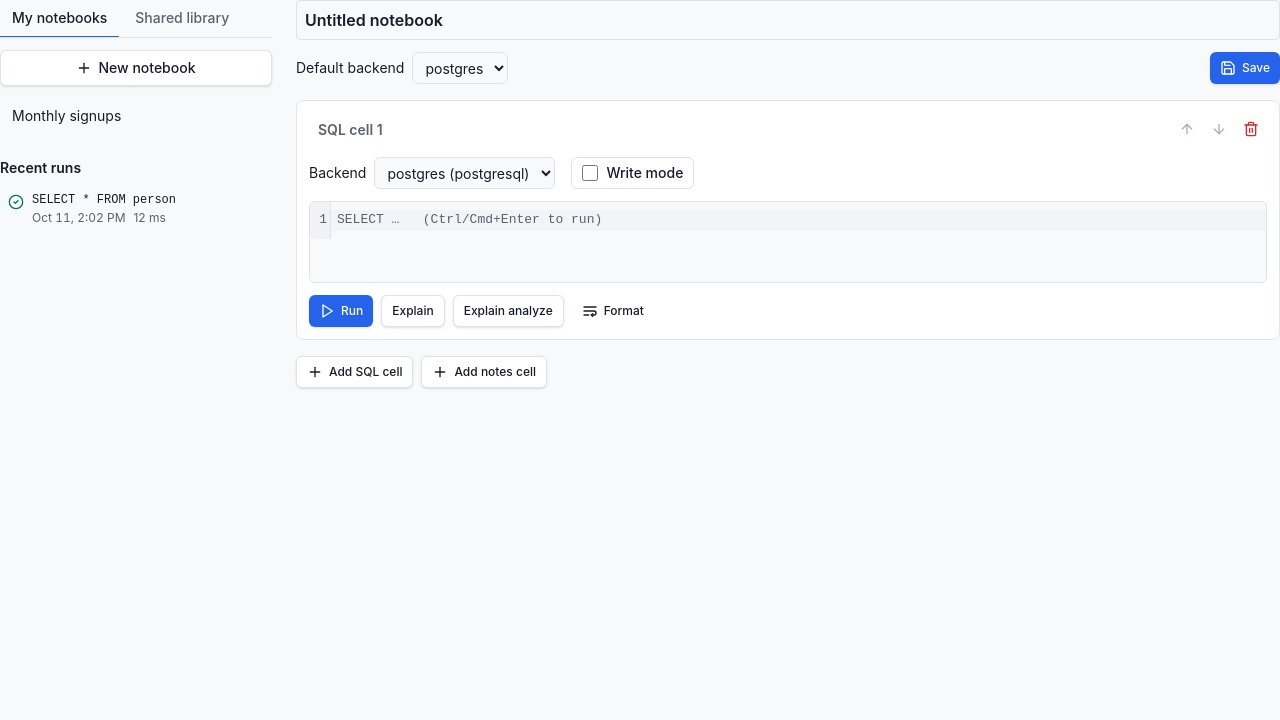
Test: SqlWorkbenchWidget › previews a write and commits only after confirmation
The width and height of the screenshot is (1280, 720).
Type "UPDATE person SET active = false" into the field named "SQL for cell 1" at (798,220), box [331,210,1266,231]
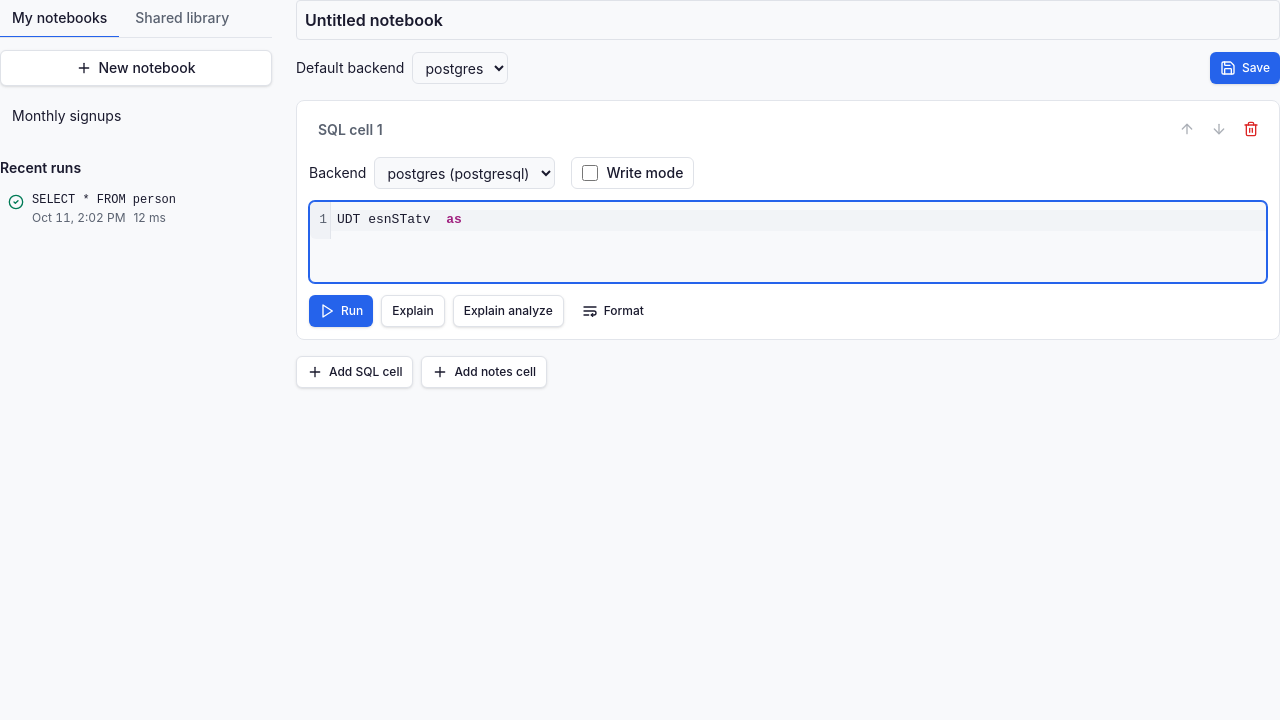
Click the checkbox labelled "Write mode" at (590,173), box [582,165,598,181]
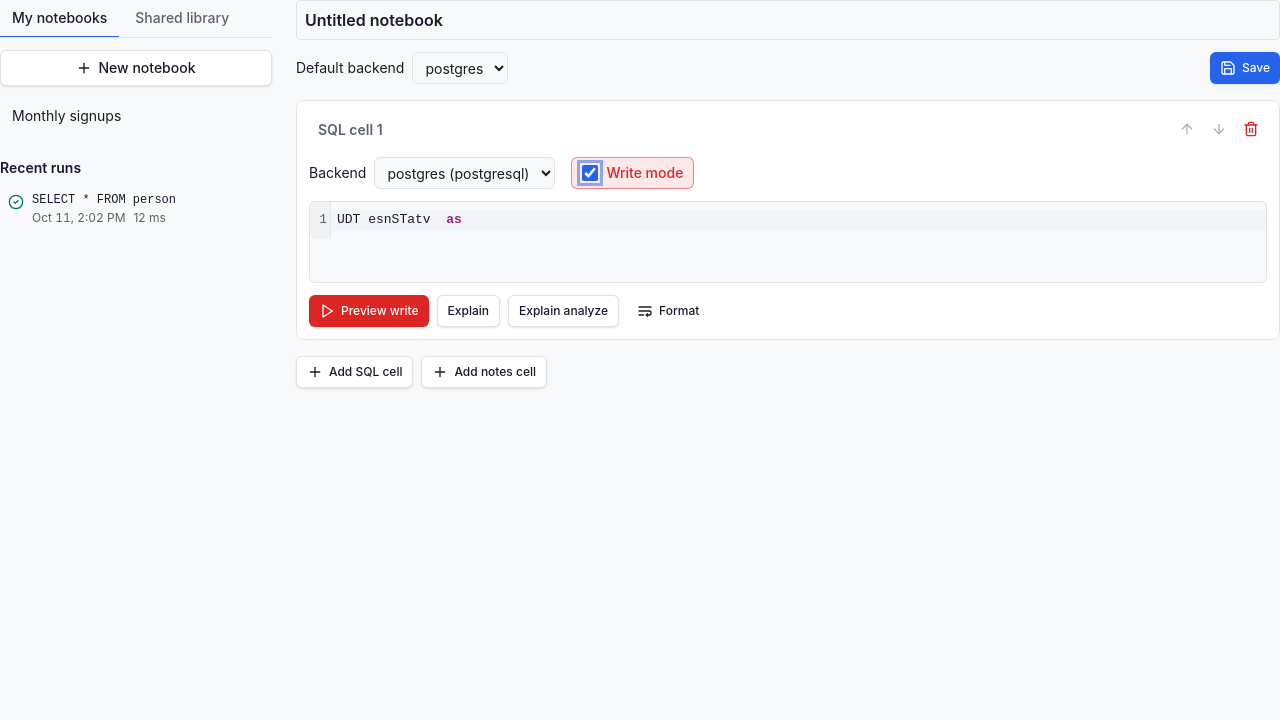
Click the button "Preview write" at (369,311), box [309,295,429,327]
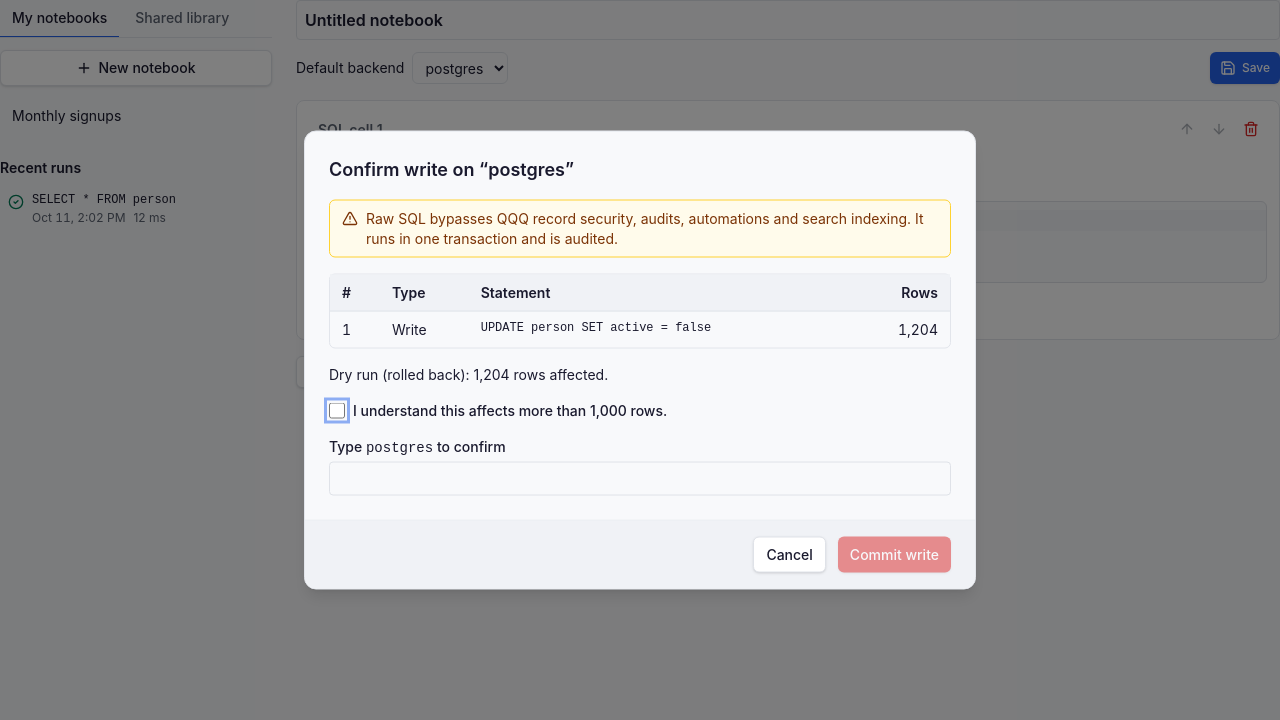
Expected: the text "Dry run (rolled back): 1,204 rows affected." is shown, [329,366,608,382]
Expected: the button "Commit write" is disabled, [838,536,951,572]
Type "postgres" into the field labelled "Type postgres to confirm" at (640,478), box [329,462,951,496]
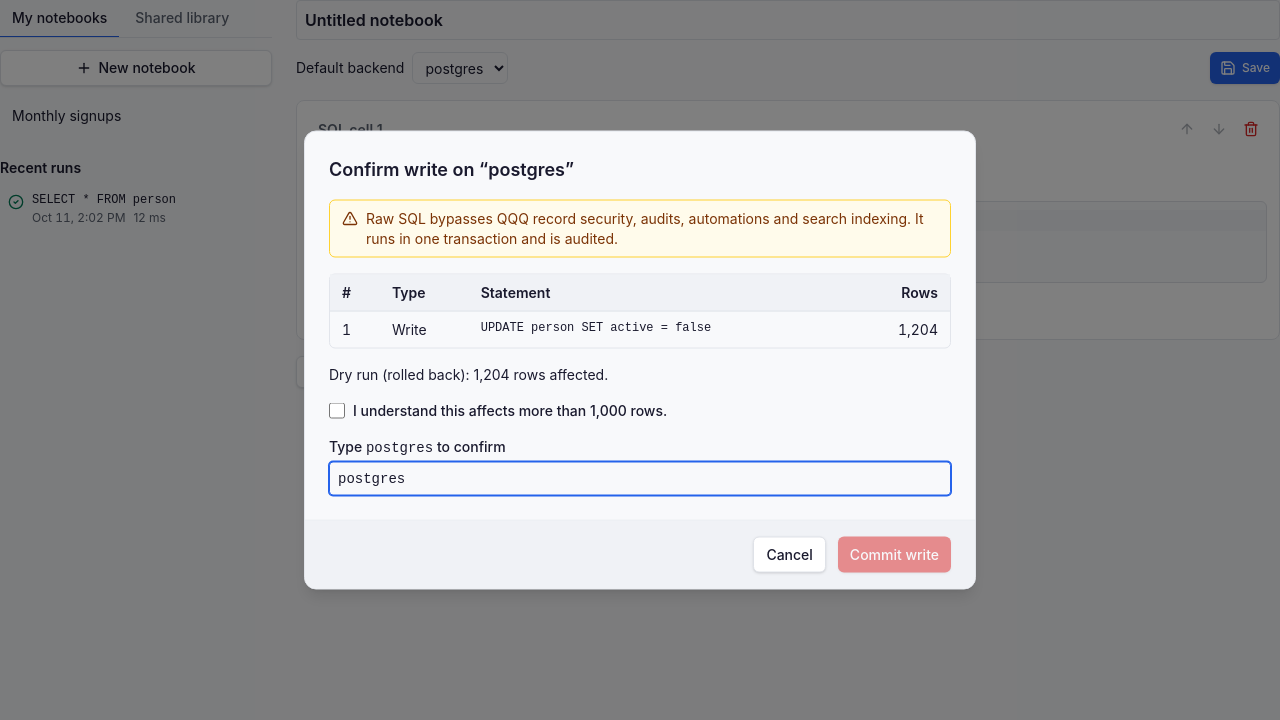
Expected: the button "Commit write" is disabled, [838,536,951,572]
Click the checkbox labelled "I understand this affects more than 1,000 rows." at (337,410), box [329,402,345,418]
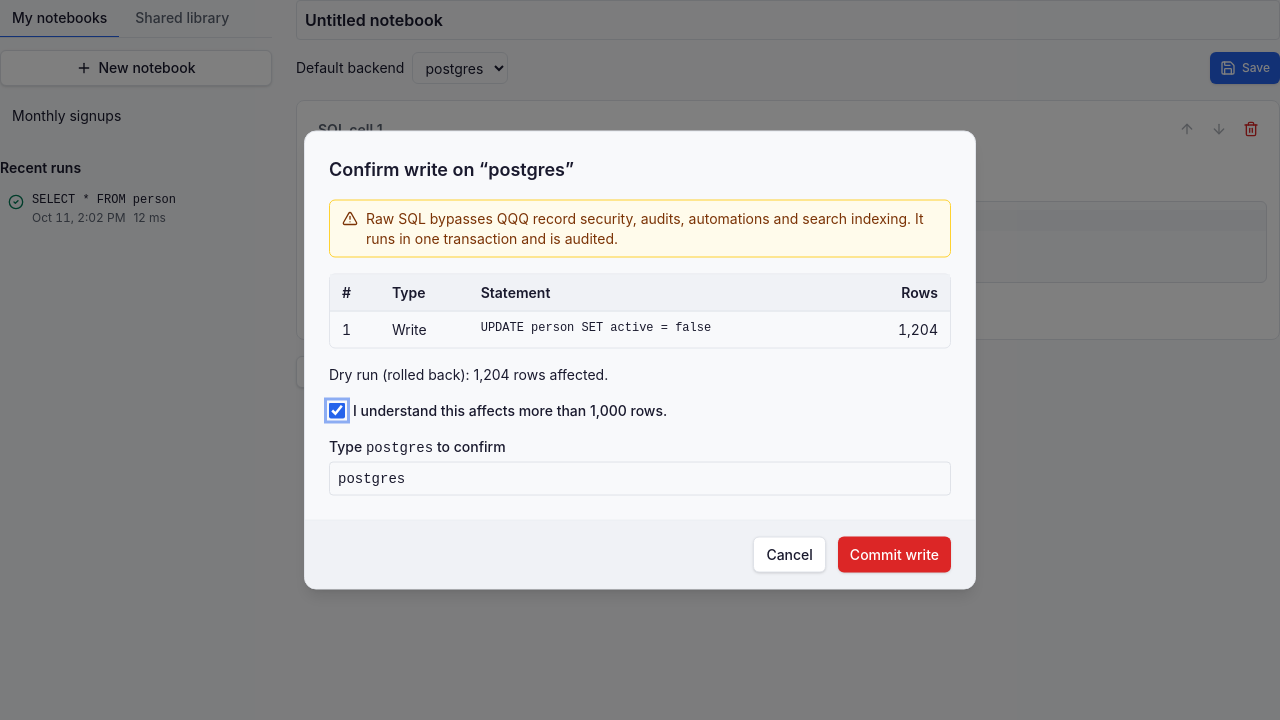
Click the button "Commit write" at (894,554), box [838,536,951,572]
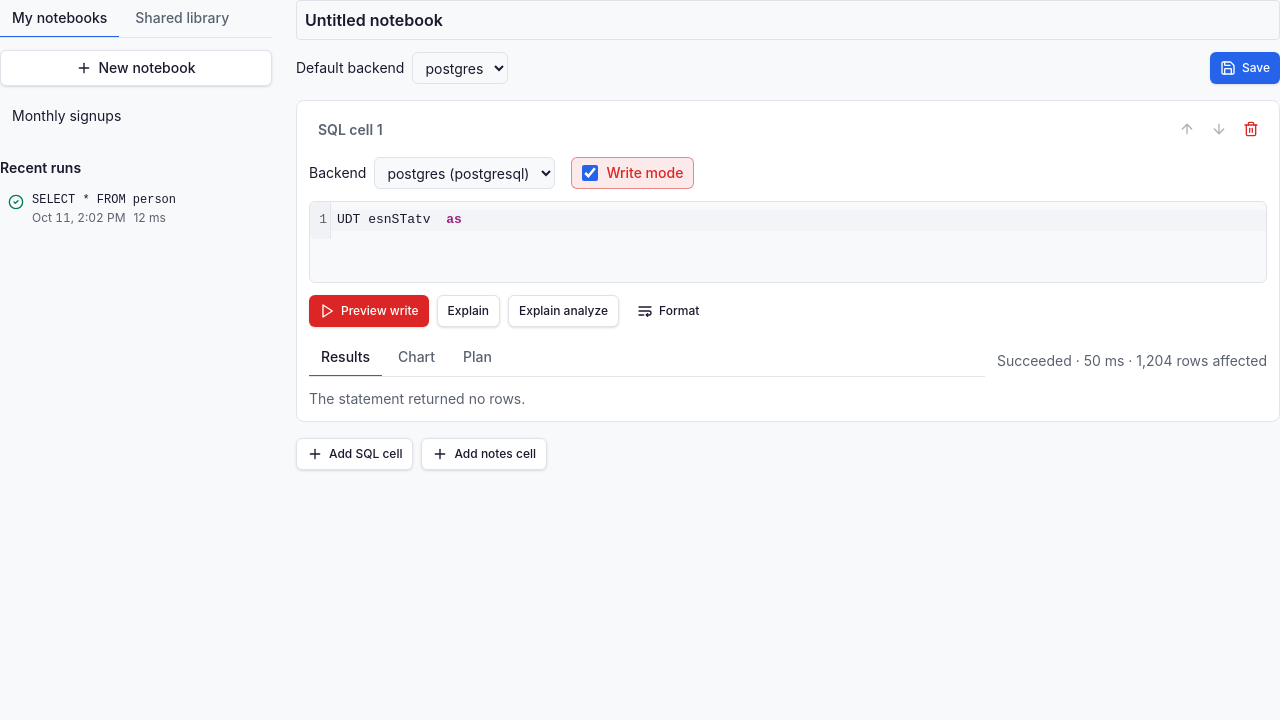
Expected: the dialog is gone
Expected: the text "Succeeded · 50 ms · 1,204 rows affected" is shown, [997,351,1267,371]
